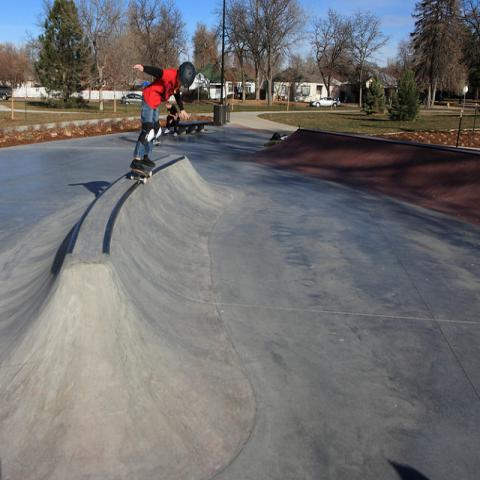car: (312, 94, 341, 108), (121, 94, 142, 105)
